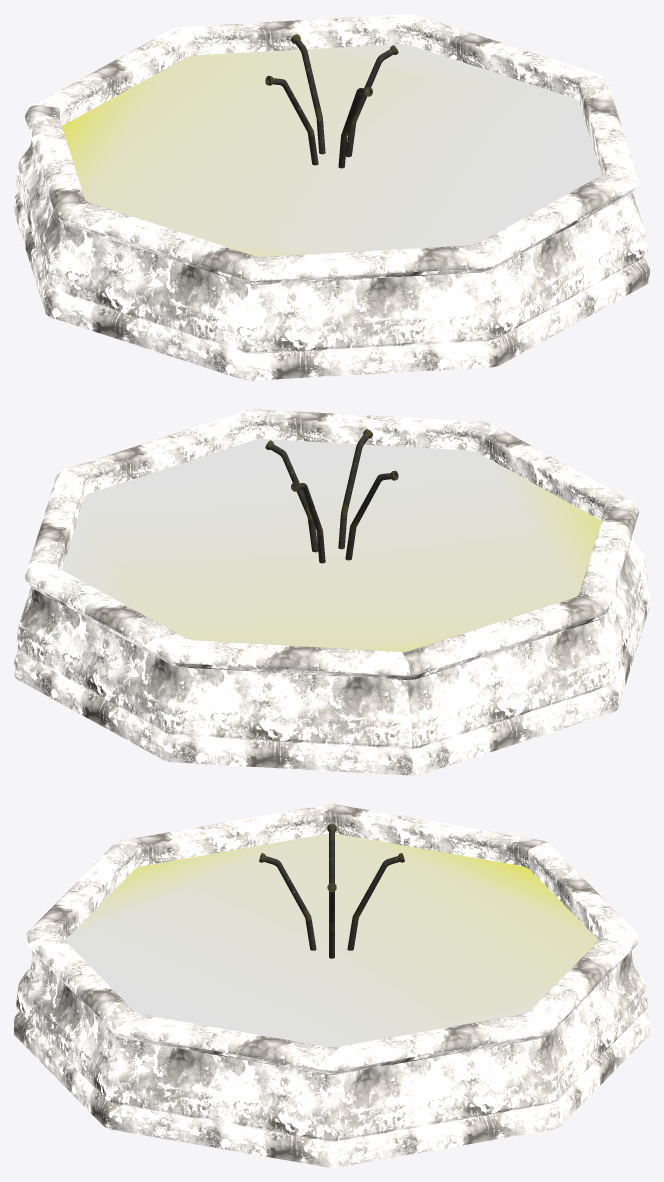
The picture shows the model from 3 angles, top to bottom: view 1: azimuth 30°, elevation 25°; view 2: azimuth 150°, elevation 25°; view 3: azimuth 270°, elevation 25°; orthographic projection. The views are drawn at different scales.
Visible parts, largest first — view 1: SM_fountain_02_LOD0; view 2: SM_fountain_02_LOD0; view 3: SM_fountain_02_LOD0.
Part boxes in pixels (x1=…): SM_fountain_02_LOD0: x1=14, y1=14, x2=649, y2=380; SM_fountain_02_LOD0: x1=14, y1=409, x2=649, y2=775; SM_fountain_02_LOD0: x1=14, y1=804, x2=649, y2=1167.
Bounding box in the file's own units: 619 × 619 × 193.
Materials: 3 (2 with a texture image).
